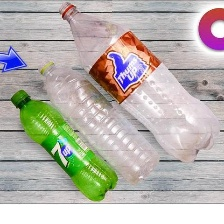bottle: (56, 0, 223, 168), (33, 53, 161, 186), (7, 85, 122, 206)
